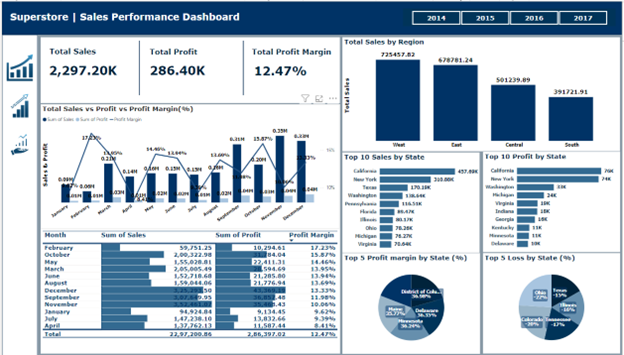

What the dashboard file says about the page in this screenshot:
{"tool":"powerbi","page":{"name":"1","canvas":[1750,1000],"ordinal":0},"visuals":[{"type":"shape","box":[108.9,100.5,844.5,186],"z":0},{"type":"shape","box":[0,0,1749.3,93.8],"z":1000},{"type":"textbox","box":[11,20.6,671,63.1],"z":2000},{"type":"slicer","fields":{"Values":["Orders.Order Date.Variation.Date Hierarchy.Year"]},"box":[1132.7,20.1,600,50.3],"z":3000},{"type":"columnChart","title":"Total Sales by Region","fields":{"Category":["People.Region"],"Y":["Sum(Orders.Sales)"]},"box":[961.8,100.5,782.5,321.7],"z":5000},{"type":"barChart","title":"Top 10 Profit by State","fields":{"Category":["Orders.State"],"Y":["Sum(Orders.Profit)"]},"box":[1357.2,423.9,387.1,283.2],"z":6000},{"type":"pieChart","title":"Top 5 Loss by State (%)","fields":{"Y":["Orders.Profit Margin"],"Category":["Orders.State"]},"box":[1357.5,710.8,386.7,282.5],"z":7000},{"type":"lineClusteredColumnComboChart","title":"Total Sales vs Profit vs Profit Margin(%)","fields":{"Y":["Sum(Orders.Sales)","Sum(Orders.Profit)"],"Category":["Orders.Order Date.Variation.Date Hierarchy.Month"],"Y2":["Orders.Profit Margin"]},"box":[108.9,289.9,844.5,351.9],"z":8000},{"type":"tableEx","fields":{"Values":["Orders.Order Date.Variation.Date Hierarchy.Month","Orders.Sales","Orders.Profit","Orders.Profit Margin"]},"box":[108.9,641.8,844.5,351.9],"z":9000},{"type":"barChart","title":"Top 10 Sales by State","fields":{"Y":["Sum(Orders.Sales)"],"Category":["Orders.State"]},"box":[961.8,425.6,387.1,283.2],"z":10000},{"type":"card","fields":{"Values":["Sum(Orders.Sales)"]},"box":[108.9,159.2,237.9,70.4],"z":11000},{"type":"card","fields":{"Values":["Orders.Profit Margin"]},"box":[700,161.4,170,70.5],"z":12000},{"type":"card","fields":{"Values":["Sum(Orders.Profit)"]},"box":[412.3,159.1,166.4,70.5],"z":13000},{"type":"textbox","box":[128.8,122.4,221,38.2],"z":14000},{"type":"textbox","box":[700,123.2,237.7,38.2],"z":15000},{"type":"textbox","box":[412.3,123.2,223.2,38.2],"z":16000},{"type":"shape","box":[357.7,111.3,62,154.2],"z":17000},{"type":"shape","box":[650.2,111.3,62,154.2],"z":18000},{"type":"pieChart","title":"Top 5 Profit margin by State (%)","fields":{"Y":["Orders.Profit Margin"],"Category":["Orders.State"]},"box":[960.9,710.9,388.2,283.6],"z":19000},{"type":"shape","box":[0,93.9,100.9,906.5],"z":19001},{"type":"image","box":[5.6,144.3,88.3,85.5],"z":19002},{"type":"image","box":[5.7,256.4,88.2,75.8],"z":19003},{"type":"image","box":[5.5,369.8,88.5,68.7],"z":19004}]}

Visuals, with their boxes in screenshot pixels (x1, y1, x2, y2), scaled from the page's 1750x1000 canvas onto the 624x355 screenshot:
shape: 39,36,340,102
shape: 0,0,623,33
textbox: 4,7,243,30
slicer - Orders.Order Date.Variation.Date Hierarchy.Year: 404,7,618,25
"Total Sales by Region" columnChart: 343,36,622,150
"Top 10 Profit by State" barChart: 484,150,622,251
"Top 5 Loss by State (%)" pieChart: 484,252,622,353
"Total Sales vs Profit vs Profit Margin(%)" lineClusteredColumnComboChart: 39,103,340,228
tableEx - Orders.Order Date.Variation.Date Hierarchy.Month x Orders.Sales: 39,228,340,353
"Top 10 Sales by State" barChart: 343,151,481,252
card - Sum(Orders.Sales): 39,57,124,82
card - Orders.Profit Margin: 250,57,310,82
card - Sum(Orders.Profit): 147,56,206,82
textbox: 46,43,125,57
textbox: 250,44,334,57
textbox: 147,44,227,57
shape: 128,40,150,94
shape: 232,40,254,94
"Top 5 Profit margin by State (%)" pieChart: 343,252,481,353
shape: 0,33,36,354
image: 2,51,33,82
image: 2,91,33,118
image: 2,131,34,156
